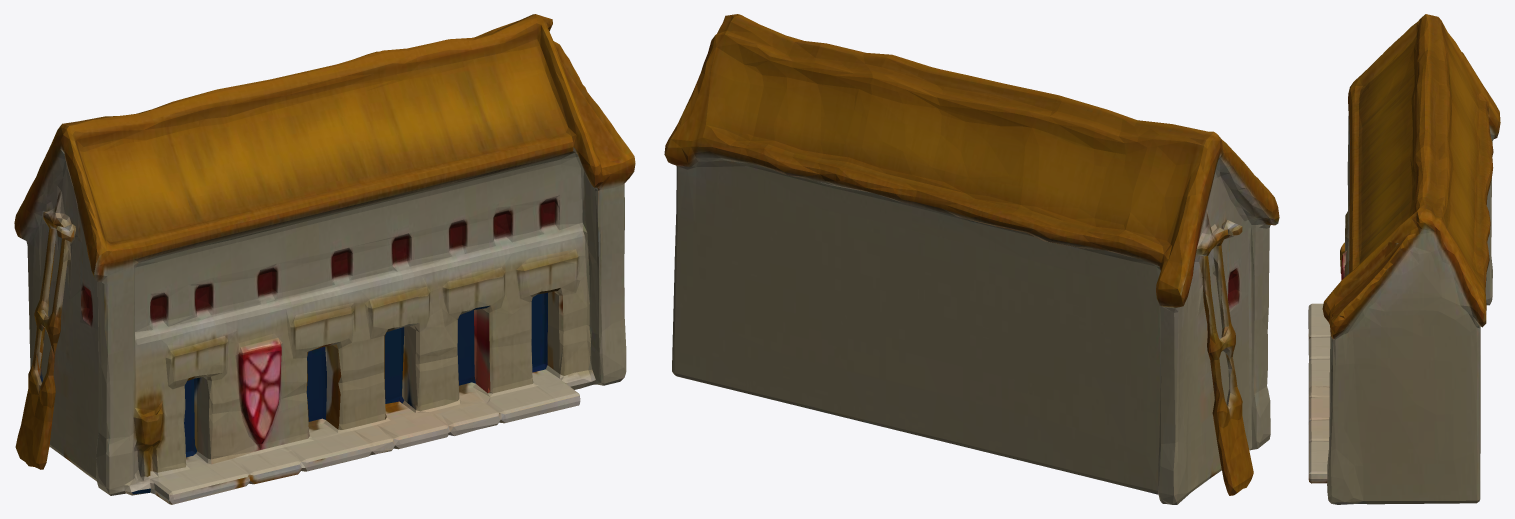
Rendered from tawantinsuyu_kallanka.glb.
The picture shows the model from 3 angles, left to right: view 1: azimuth 30°, elevation 25°; view 2: azimuth 150°, elevation 25°; view 3: azimuth 270°, elevation 25°; orthographic projection. The views are drawn at different scales.
Visible parts, largest first — view 1: geometry_0; view 2: geometry_0; view 3: geometry_0.
Boxes of the visible parts, x1,y1,x2,y2 form: geometry_0: (14,14,635,504); geometry_0: (664,14,1279,504); geometry_0: (1308,14,1500,504).
Bounding box in the file's own units: 2.4 × 1.41 × 0.859.
Materials: 1 (1 with a texture image).
